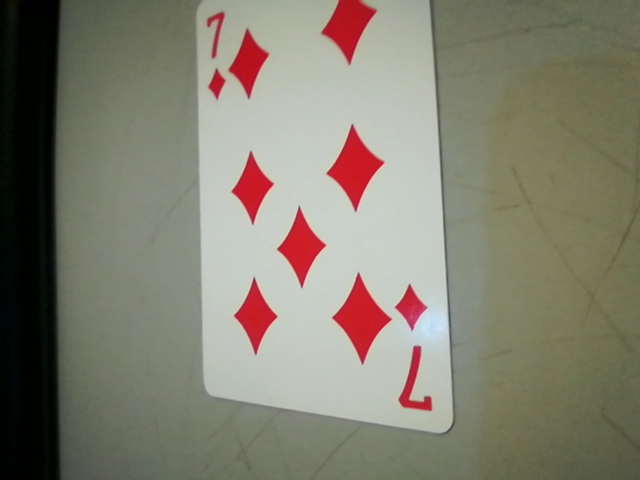fk 7: (387, 279, 443, 425)
